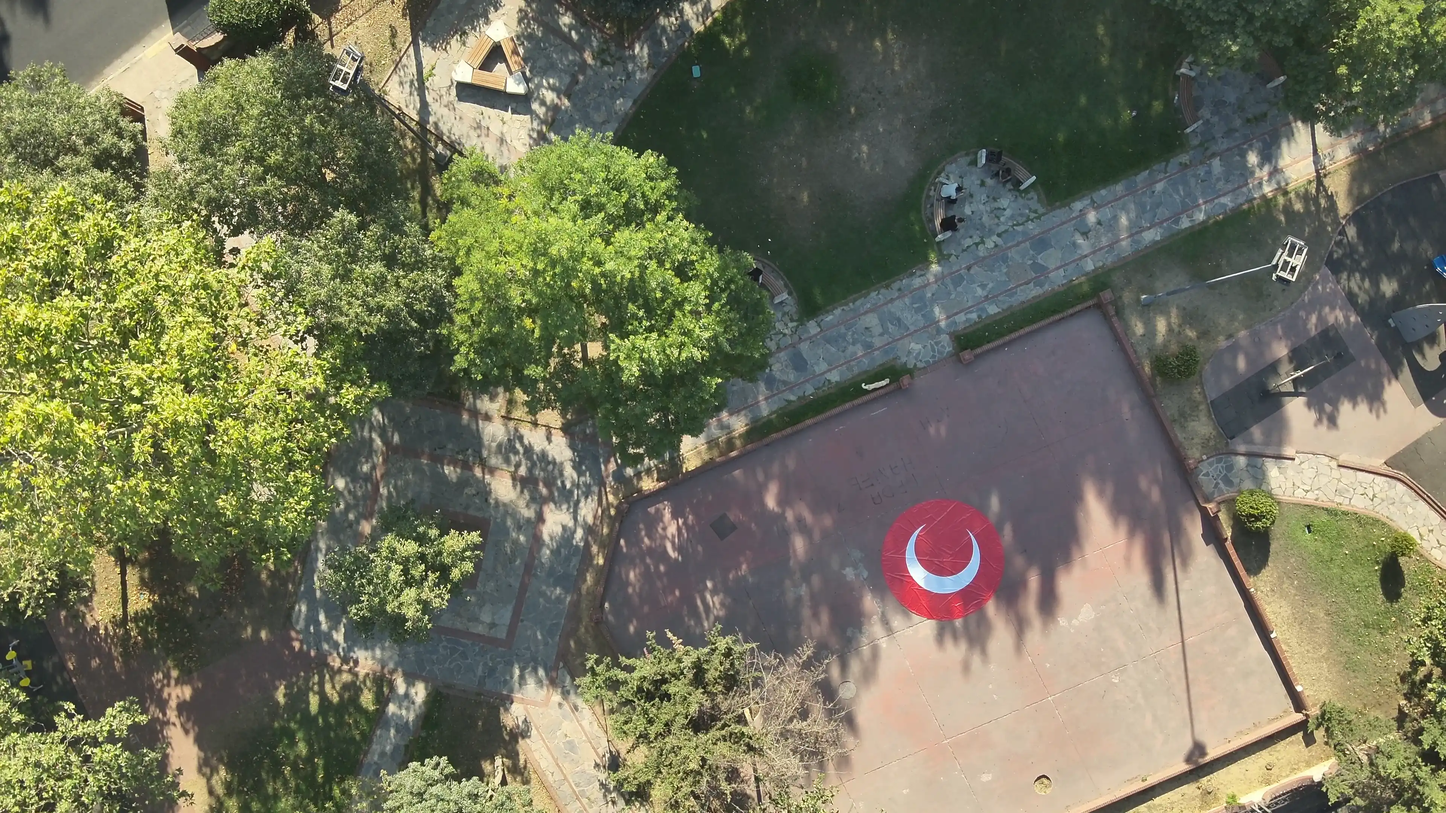person: (935, 176, 972, 205), (935, 208, 967, 241)
